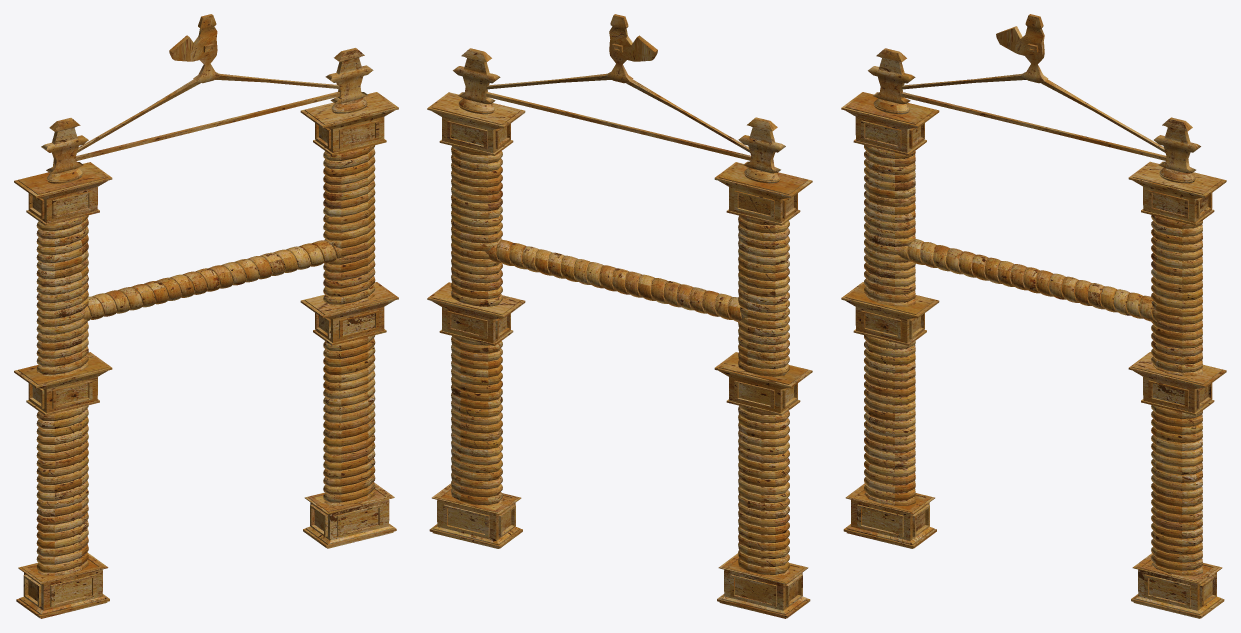
The model's file is gate.glb.
3 views of the same model, side by side, from view 1: azimuth 30°, elevation 25°; view 2: azimuth 150°, elevation 25°; view 3: azimuth 330°, elevation 25° (orthographic).
Parts seen in each view (by area): view 1: Gate; view 2: Gate; view 3: Gate.
Boxes of the visible parts, left/top/right/bottom form: Gate: left=14, top=14, right=398, bottom=618; Gate: left=427, top=14, right=812, bottom=618; Gate: left=841, top=14, right=1226, bottom=618.
Size of the model in its own units: 2.06 by 2.99 by 0.2313.
Materials: 2 (2 with a texture image).
